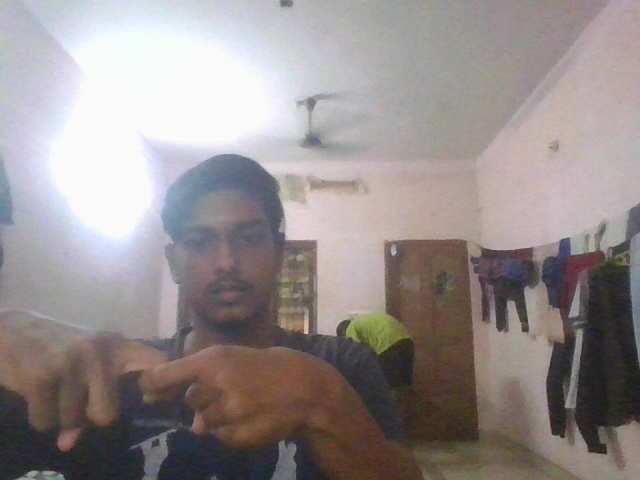friend: (1, 308, 344, 464)
